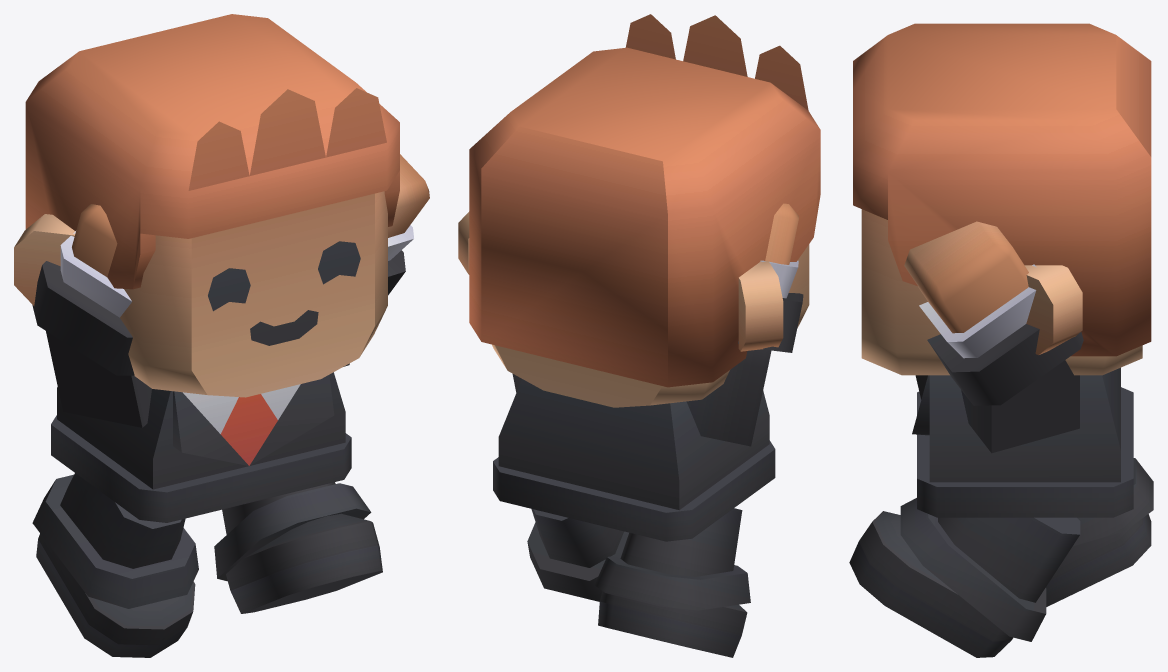
The model's file is walker-male-d-walk-a.glb.
The picture shows the model from 3 angles, left to right: view 1: azimuth 30°, elevation 25°; view 2: azimuth 150°, elevation 25°; view 3: azimuth 270°, elevation 25°; orthographic projection. The views are drawn at different scales.
Visible parts, largest first — view 1: character-male-d-walk-a; view 2: character-male-d-walk-a; view 3: character-male-d-walk-a.
Boxes of the visible parts, bbox=[...] form: character-male-d-walk-a: bbox=[14, 14, 429, 657]; character-male-d-walk-a: bbox=[458, 14, 820, 657]; character-male-d-walk-a: bbox=[849, 23, 1153, 657].
Size of the model in its own units: 0.4719 by 0.7603 by 0.3464.
1 material, 1 textured.
